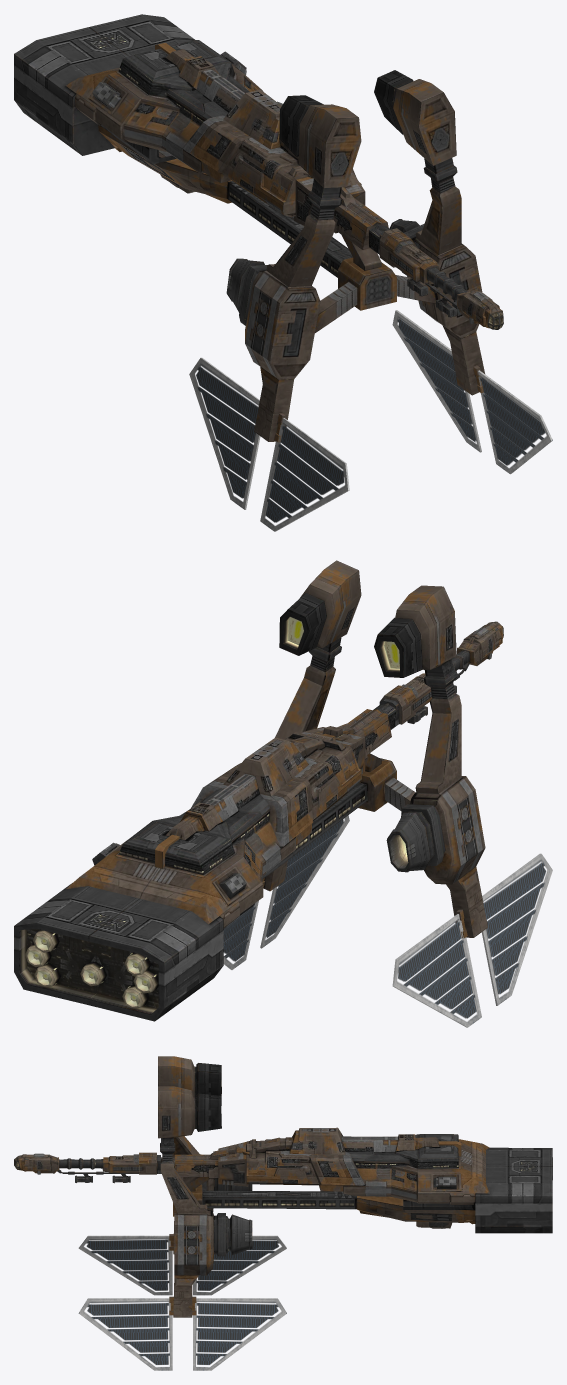
Rendered from 630_lite.glb.
3 views of the same model, one above another, from view 1: azimuth 30°, elevation 25°; view 2: azimuth 150°, elevation 25°; view 3: azimuth 270°, elevation 25° (orthographic). The views are drawn at different scales.
Parts seen in each view (by area): view 1: polySurface4Shape, polySurface4Shape.002, polySurface4Shape.004; view 2: polySurface4Shape, polySurface4Shape.002, polySurface4Shape.004; view 3: polySurface4Shape, polySurface4Shape.004, polySurface4Shape.002.
Boxes of the visible parts, left/top/right/bottom form: polySurface4Shape: left=14, top=14, right=503, bottom=442; polySurface4Shape.002: left=189, top=357, right=349, bottom=531; polySurface4Shape.004: left=392, top=310, right=552, bottom=474; polySurface4Shape: left=14, top=560, right=503, bottom=1021; polySurface4Shape.002: left=392, top=853, right=552, bottom=1027; polySurface4Shape.004: left=223, top=815, right=349, bottom=969; polySurface4Shape: left=14, top=1056, right=552, bottom=1317; polySurface4Shape.004: left=78, top=1298, right=286, bottom=1370; polySurface4Shape.002: left=78, top=1235, right=286, bottom=1295.
Bounding box in the file's own units: 1.17 × 1.86 × 3.51.
3 materials, 3 textured.
